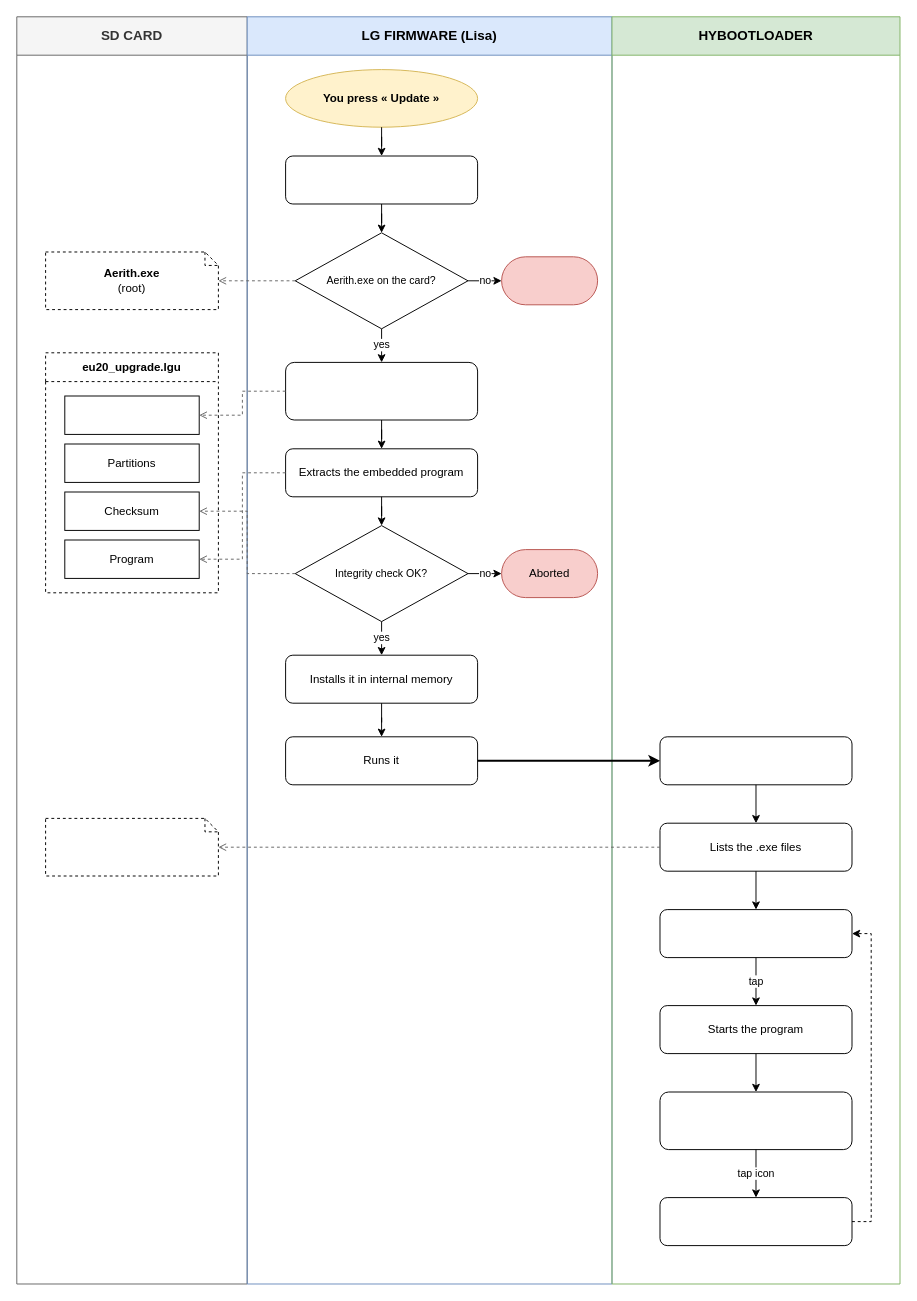
The diagram is 917 pixels wide and 1301 high, and some of its shapes have lost their labels. The centre of each missing label's shape, as x and y in pixels:
Comes back to the front: the point at 755,1221
Header: the point at 131,414
Hides, floating « B » icon on top: the point at 755,1120
Nothing happens: the point at 549,280
One tile per program: the point at 755,933
programmes\ *.exe: the point at 131,846
Reads the update file header → size of the program: the point at 381,390
Receives the press: the point at 381,179
Starts: the point at 755,760
